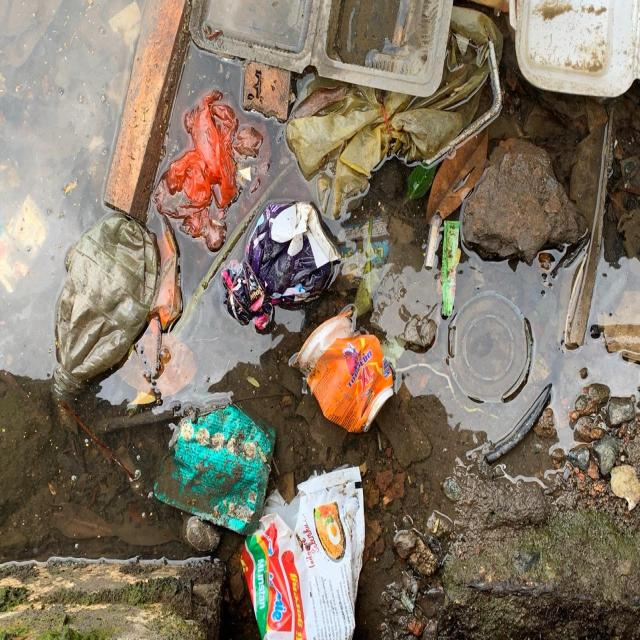Botol Plastik: (46, 207, 160, 400)
Bungkus Makanan: (230, 463, 378, 640), (194, 3, 458, 96), (513, 1, 640, 99)
Bungkus Minuman: (287, 303, 399, 437)
Kantong Plastik: (164, 91, 260, 244), (277, 98, 397, 214)
